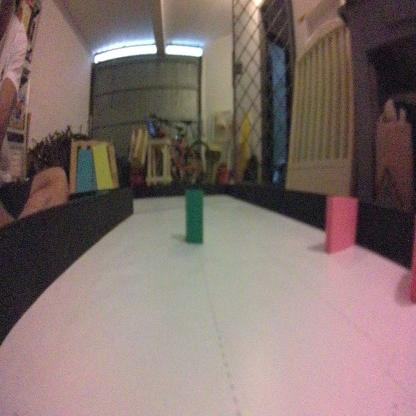green: (184, 185, 204, 244)
magenta: (324, 193, 358, 252)
